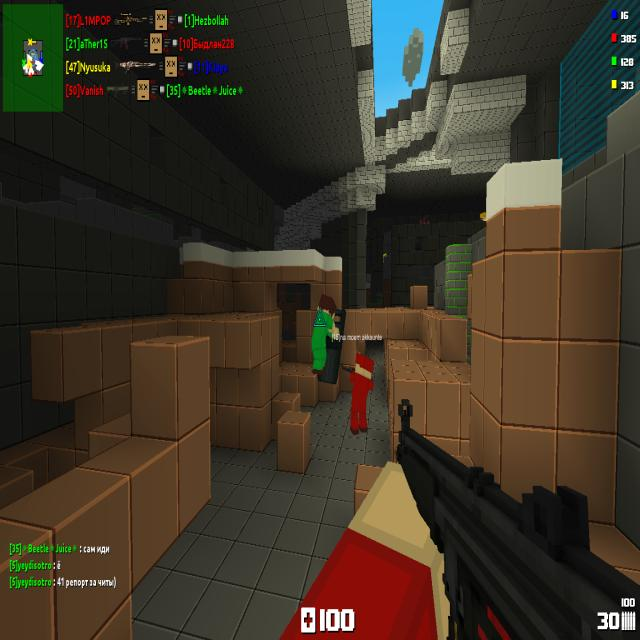enemy: (311, 292, 339, 374), (383, 254, 387, 262)
